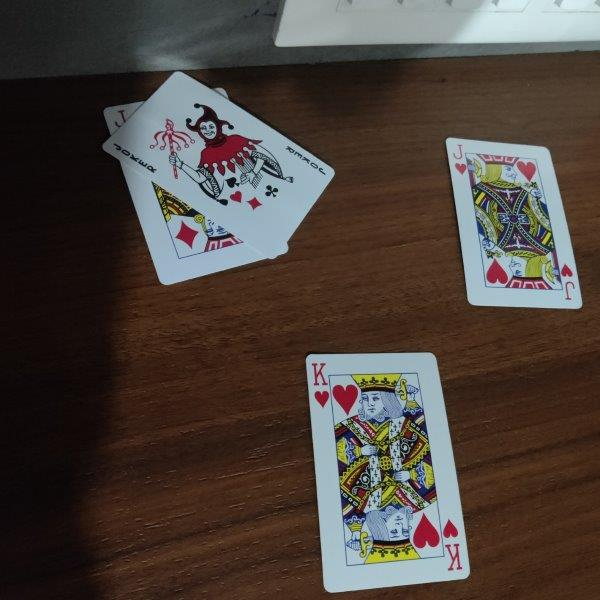Jack of Diamonds: (103, 87, 292, 285)
Jack of Hearts: (445, 136, 583, 311)
Joker: (102, 71, 337, 259)
King of Hearts: (306, 351, 471, 593)
